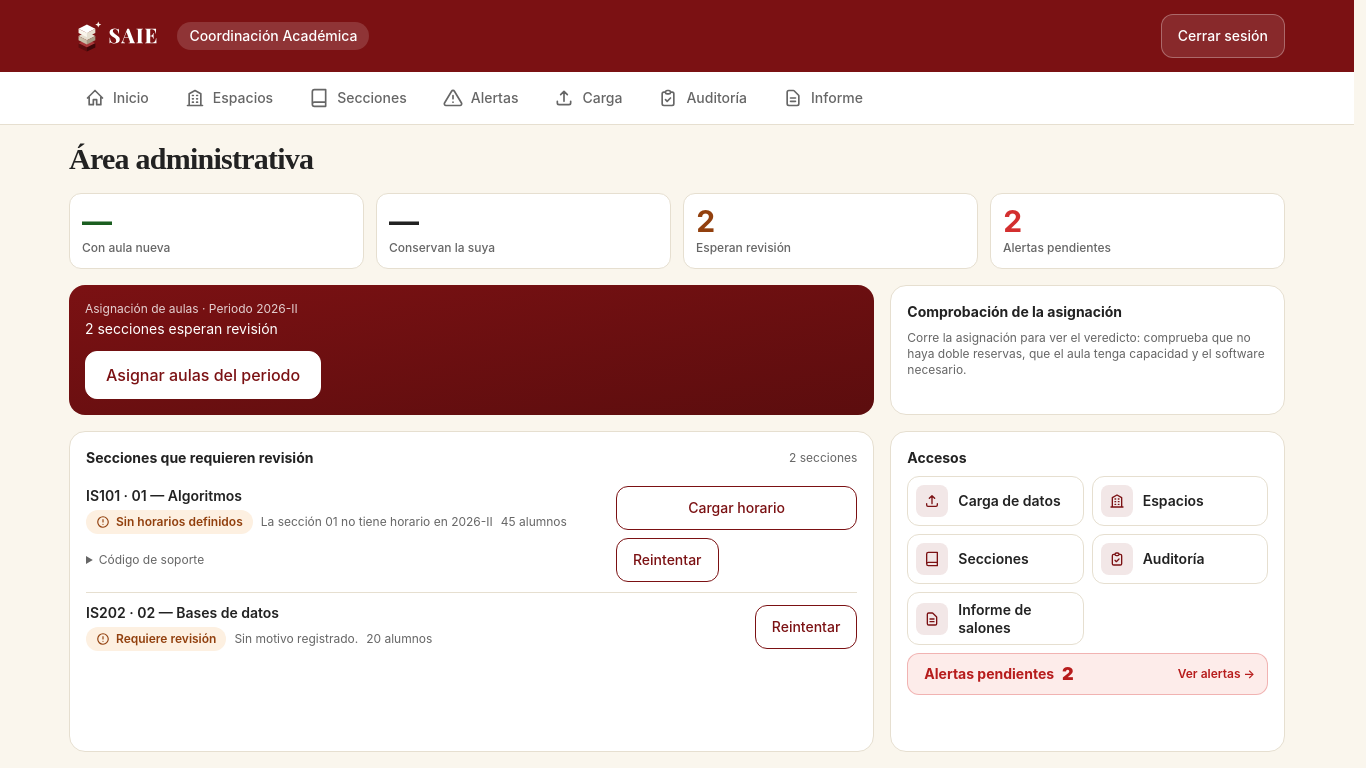
Test case: Inicio del panel administrativo › Coordinación (Issue 4.20) › pide confirmación, ejecuta la corrida y muestra el desglose
This screenshot has width=1366, height=768.
Expected: the text "IS101 · 01 — Algoritmos" is shown, [86,487,242,504]
Click the button "Asignar aulas del periodo". click: point(203, 375)
box: [85,351,321,399]
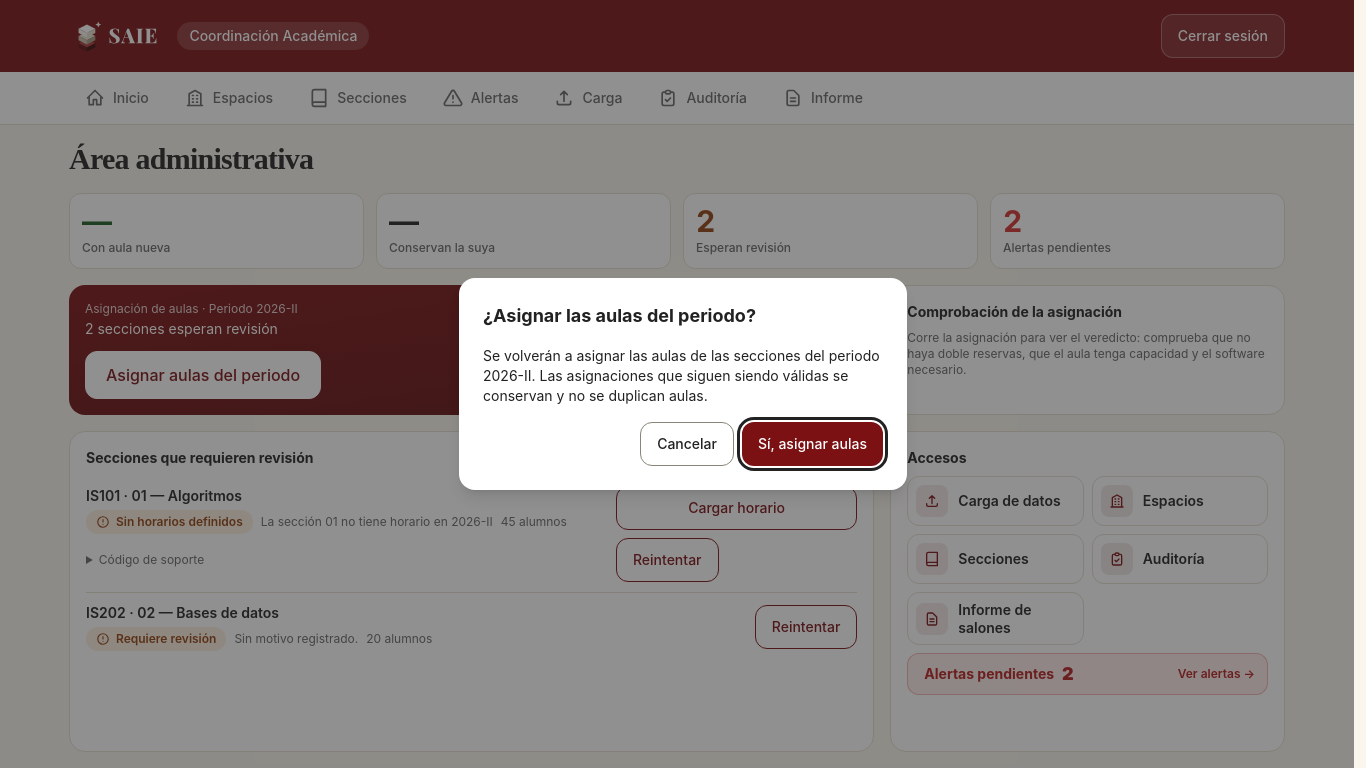
Expected: the text "Se volverán a asignar las aulas" is shown, [483,347,880,404]
Click the button "Sí, asignar aulas". click: point(812, 444)
box: [742,422,883,466]
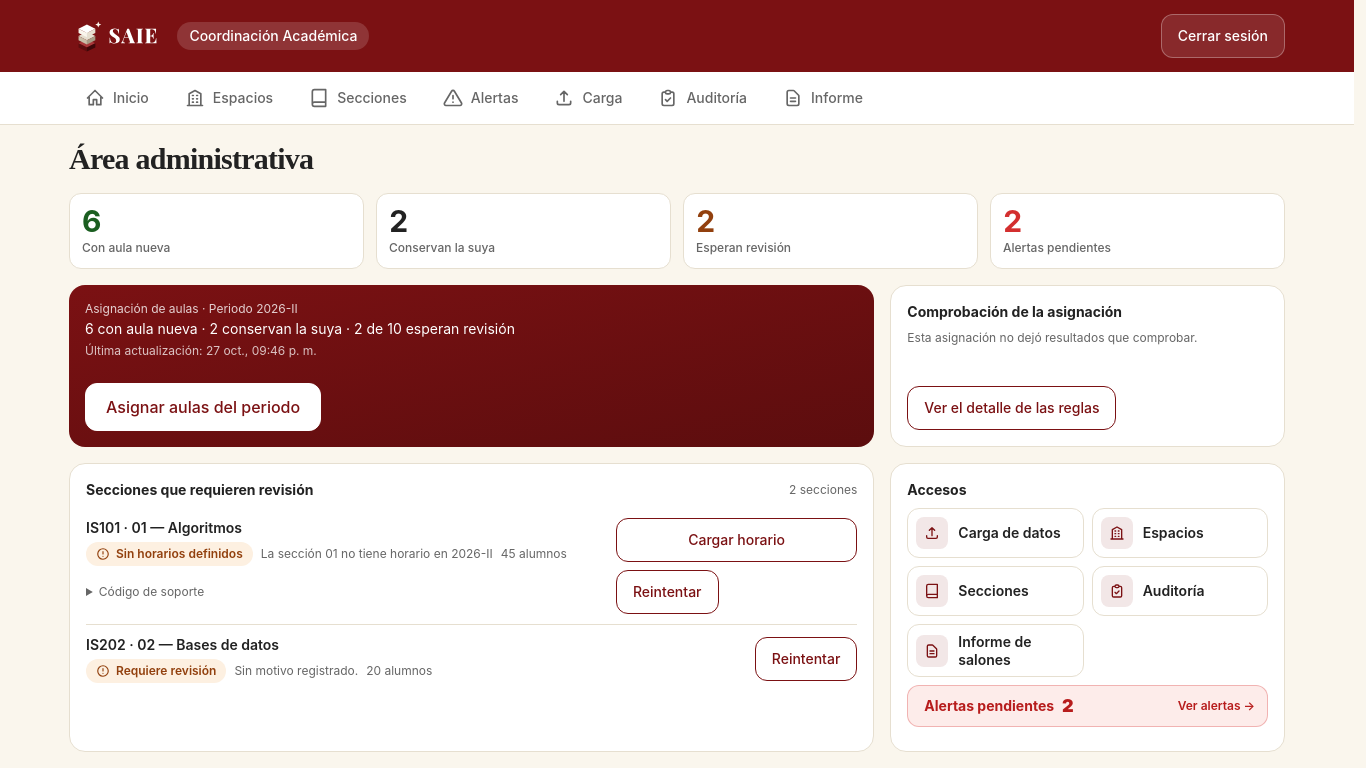
Expected: the message reads "6 con aula nueva · 2 conservan la suya · 2 de 10 esperan revisión", [85,320,515,337]
